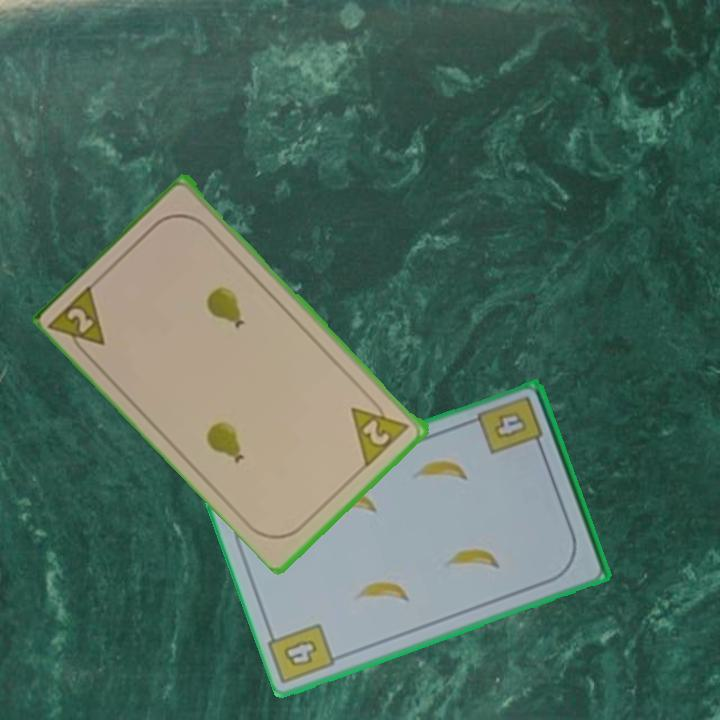2p: (47, 279, 110, 363), (347, 392, 413, 468)
4b: (474, 392, 547, 458), (279, 636, 320, 671)
